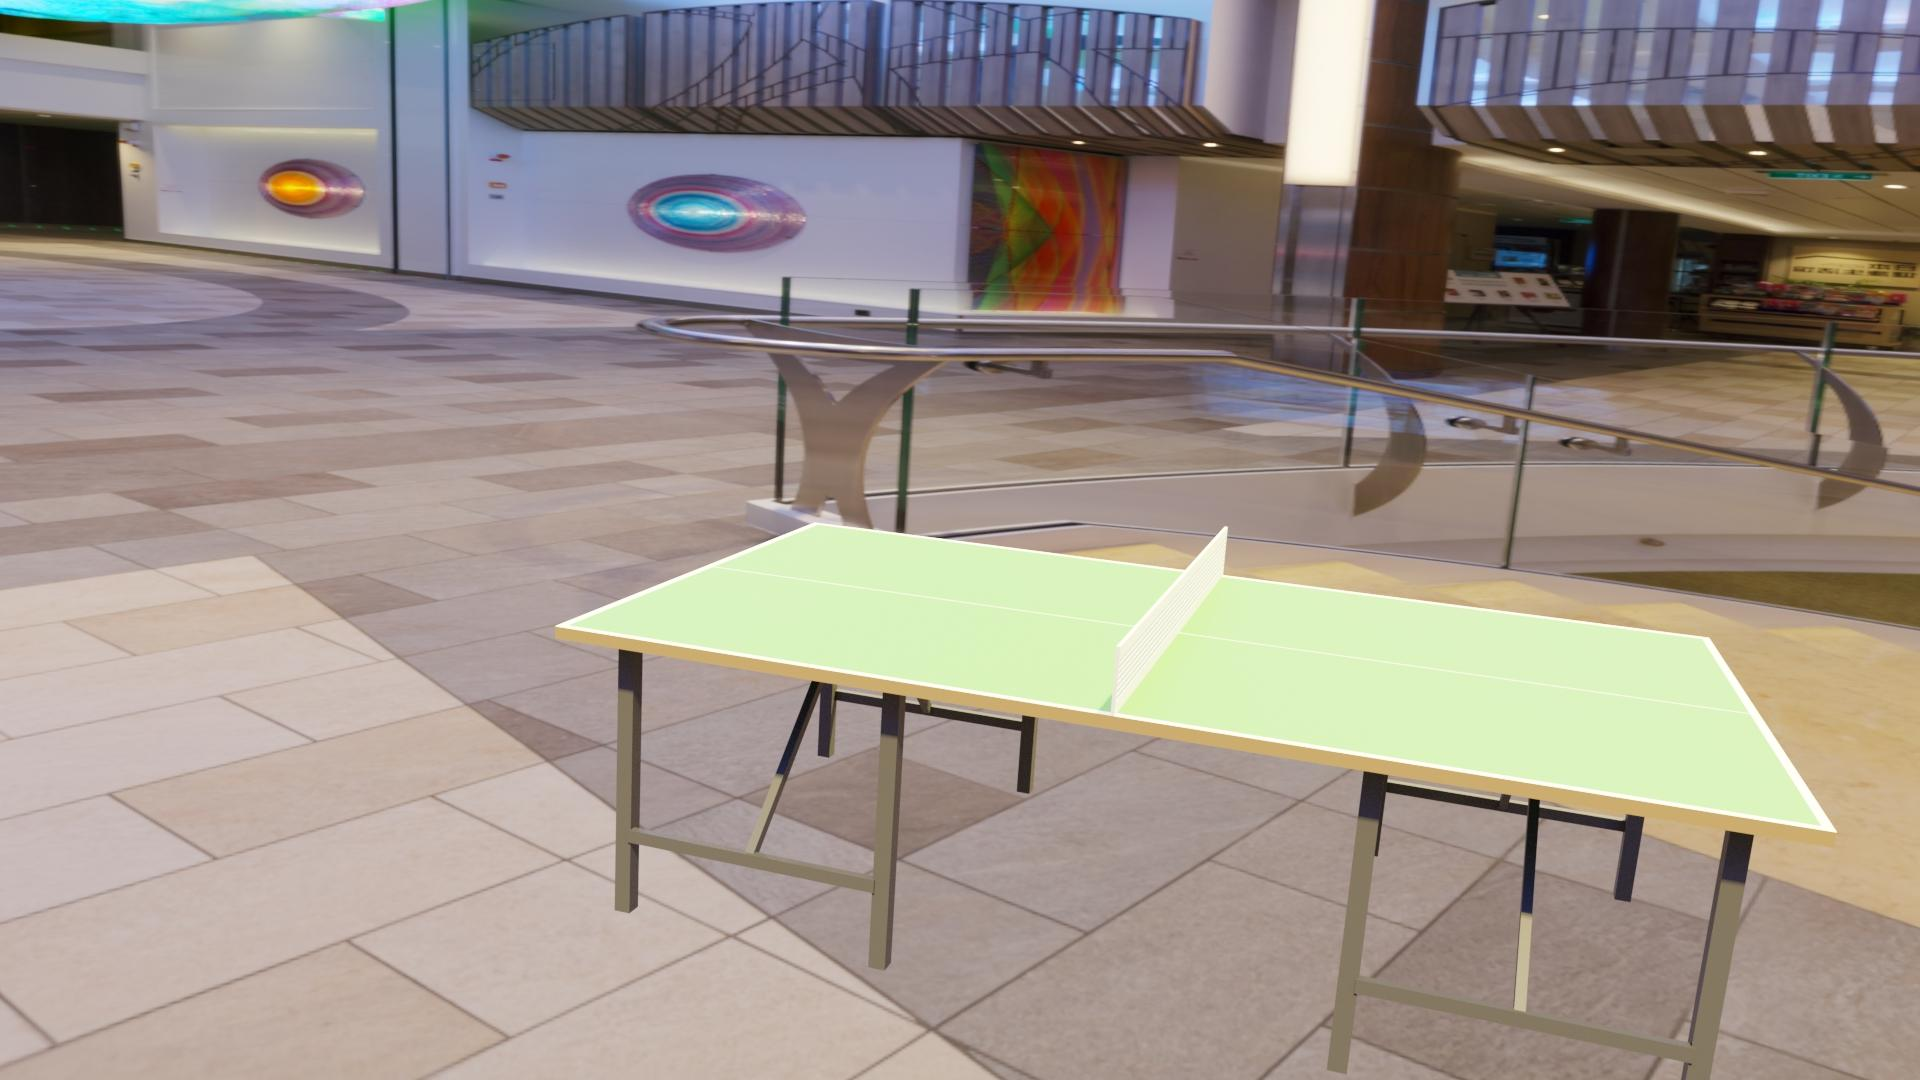table: (567, 525, 1822, 827)
